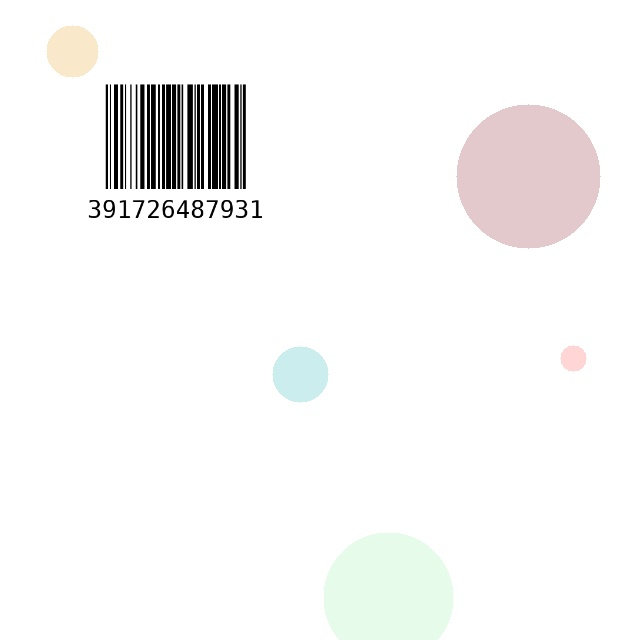barcode: (88, 78, 263, 243)
